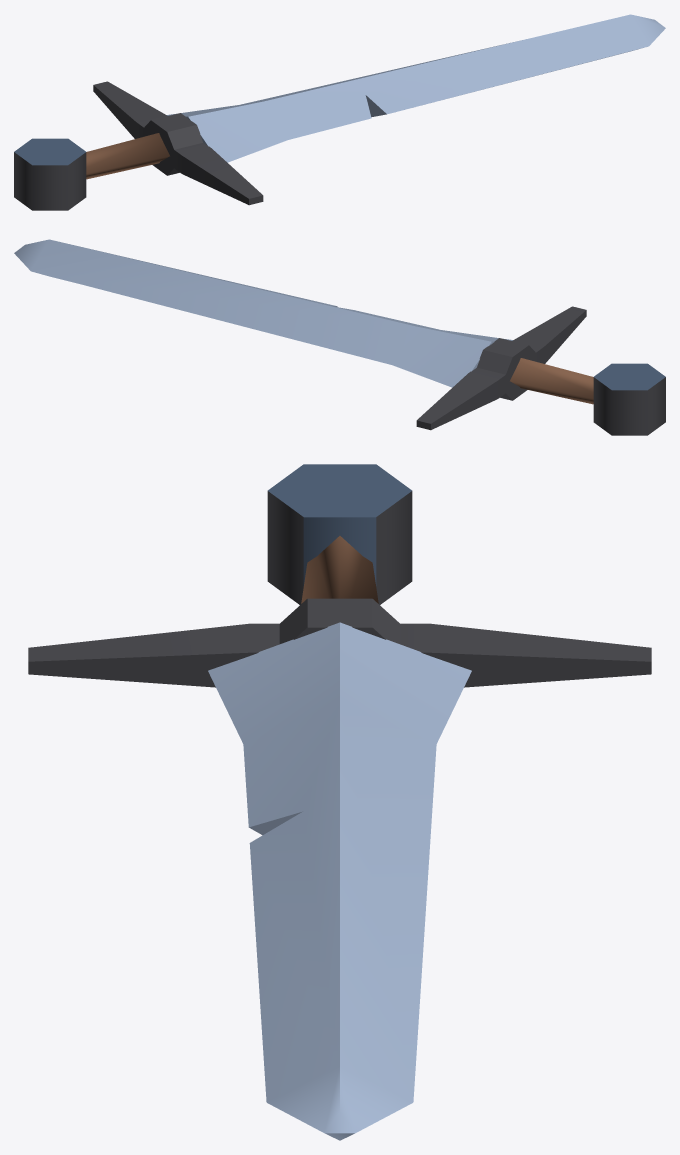
The model's file is Sword_Arming.fbx.
The picture shows the model from 3 angles, top to bottom: view 1: azimuth 30°, elevation 25°; view 2: azimuth 150°, elevation 25°; view 3: azimuth 270°, elevation 25°; orthographic projection. The views are drawn at different scales.
Visible parts, largest first — view 1: Sword_Arming; view 2: Sword_Arming; view 3: Sword_Arming.
Boxes of the visible parts, bbox=[...] form: Sword_Arming: bbox=[14, 14, 665, 210]; Sword_Arming: bbox=[14, 239, 665, 435]; Sword_Arming: bbox=[28, 464, 651, 1140].
Bounding box in the file's own units: 1.22 × 0.5159 × 0.0883.
